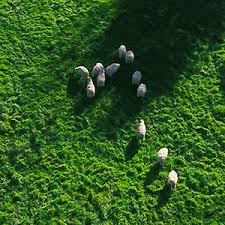sheep: (72, 62, 90, 78), (95, 68, 109, 88), (85, 75, 97, 98), (106, 61, 120, 79), (137, 118, 147, 142), (166, 169, 178, 189), (156, 147, 168, 165), (91, 62, 105, 77), (135, 82, 146, 101), (130, 70, 141, 85), (124, 48, 133, 62), (116, 44, 125, 57)
